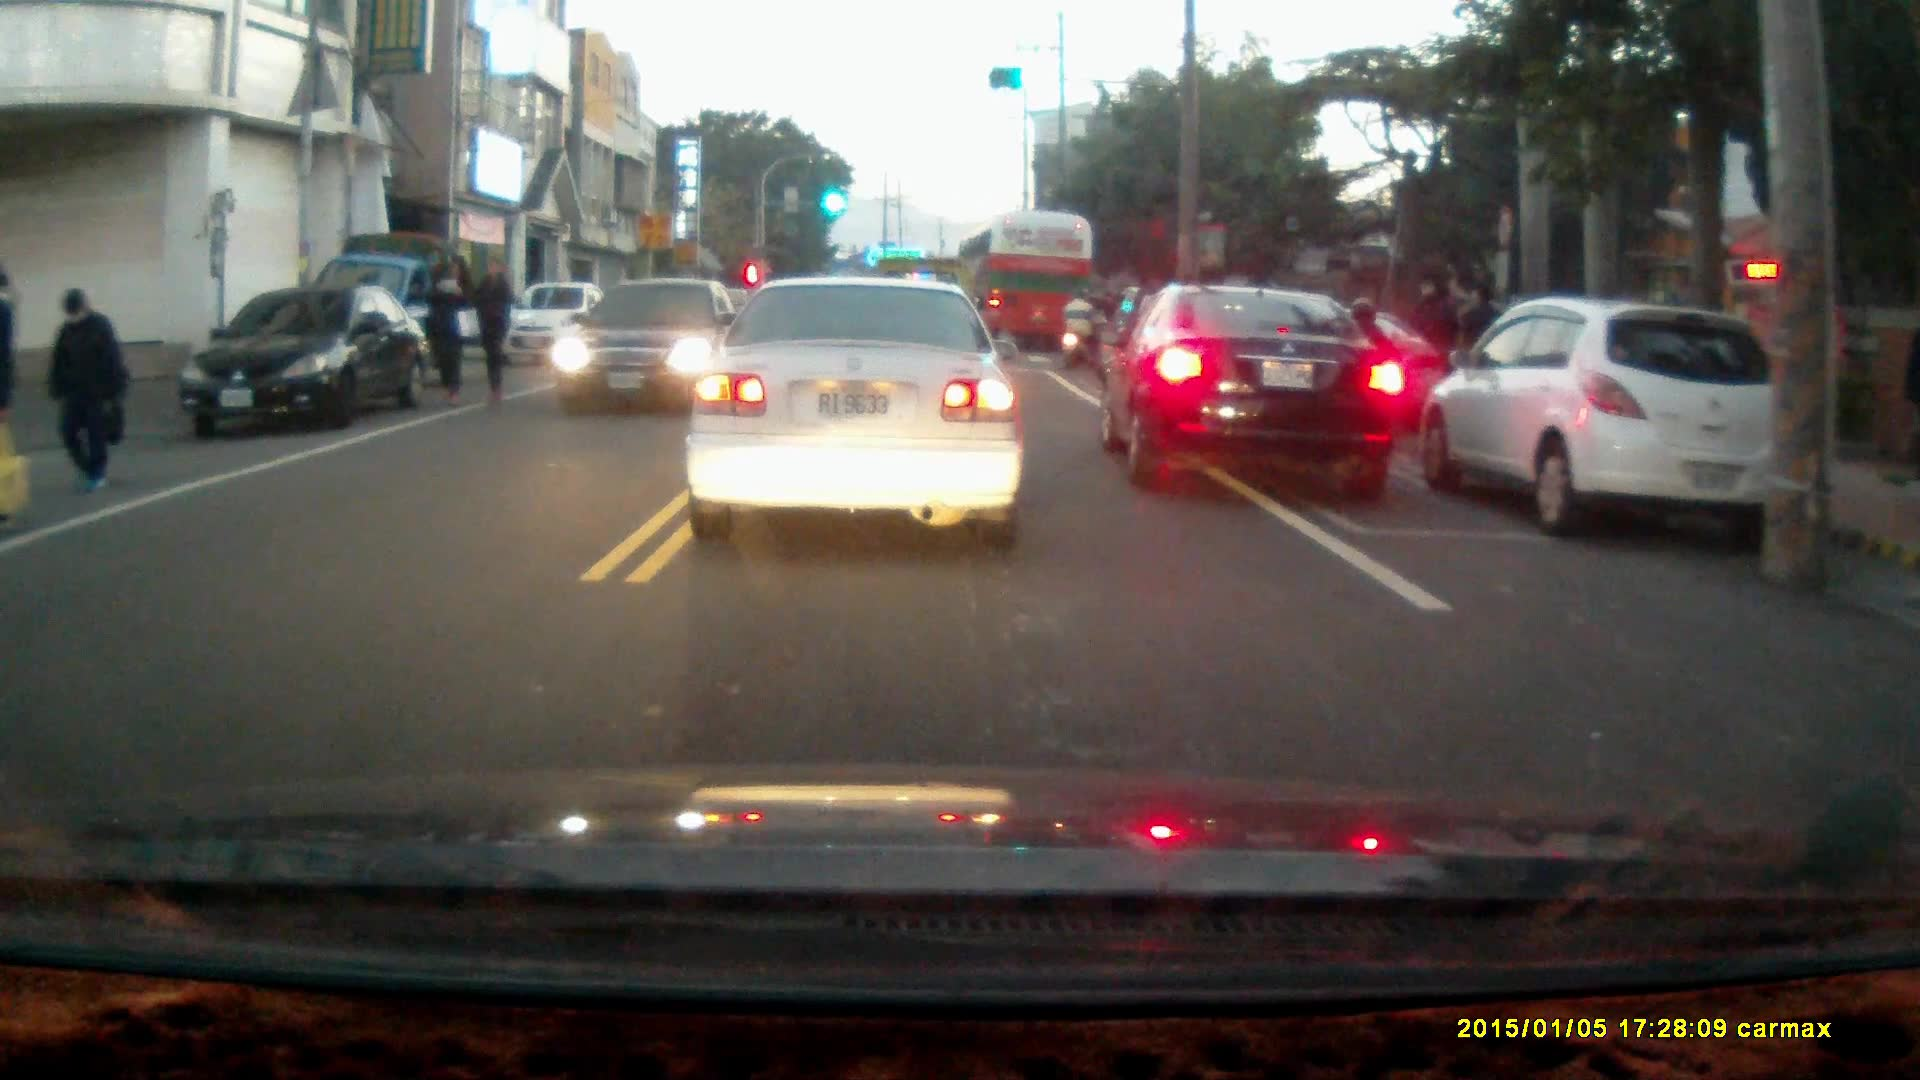pedestrian: (44, 286, 122, 497), (426, 255, 476, 407), (472, 254, 512, 408), (1458, 283, 1500, 400), (1419, 283, 1461, 393)
rider: (1056, 289, 1097, 371)
vehicle: (1415, 292, 1811, 547), (686, 271, 1028, 551), (1114, 284, 1412, 493), (186, 283, 426, 430), (303, 234, 483, 396), (552, 277, 749, 419), (960, 209, 1096, 350), (489, 282, 622, 368)
